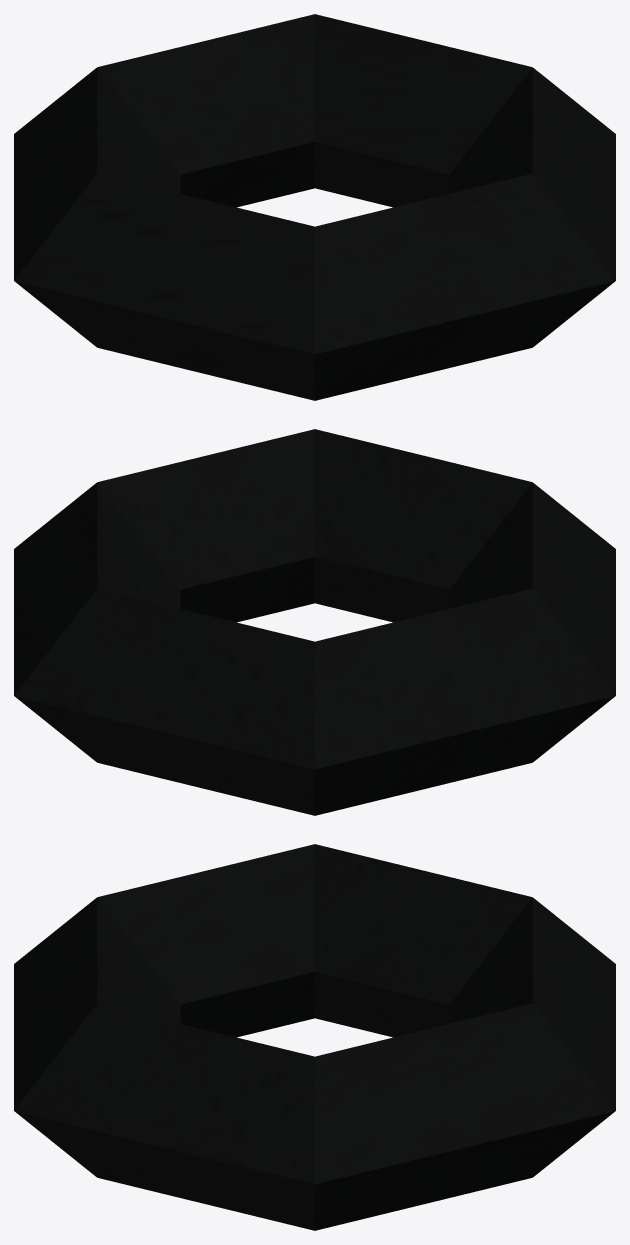
Rendered from PROP-46E9AFECE787_lod2.glb.
3 views of the same model, one above another, from view 1: azimuth 30°, elevation 25°; view 2: azimuth 150°, elevation 25°; view 3: azimuth 270°, elevation 25° (orthographic).
Visible parts, largest first — view 1: discarded_tire.001; view 2: discarded_tire.001; view 3: discarded_tire.001.
Boxes of the visible parts, x1=… form: discarded_tire.001: x1=14, y1=14, x2=615, y2=400; discarded_tire.001: x1=14, y1=429, x2=615, y2=815; discarded_tire.001: x1=14, y1=844, x2=615, y2=1230.
Size of the model in its own units: 0.94 by 0.26 by 0.8141.
Materials: 1 (1 with a texture image).
